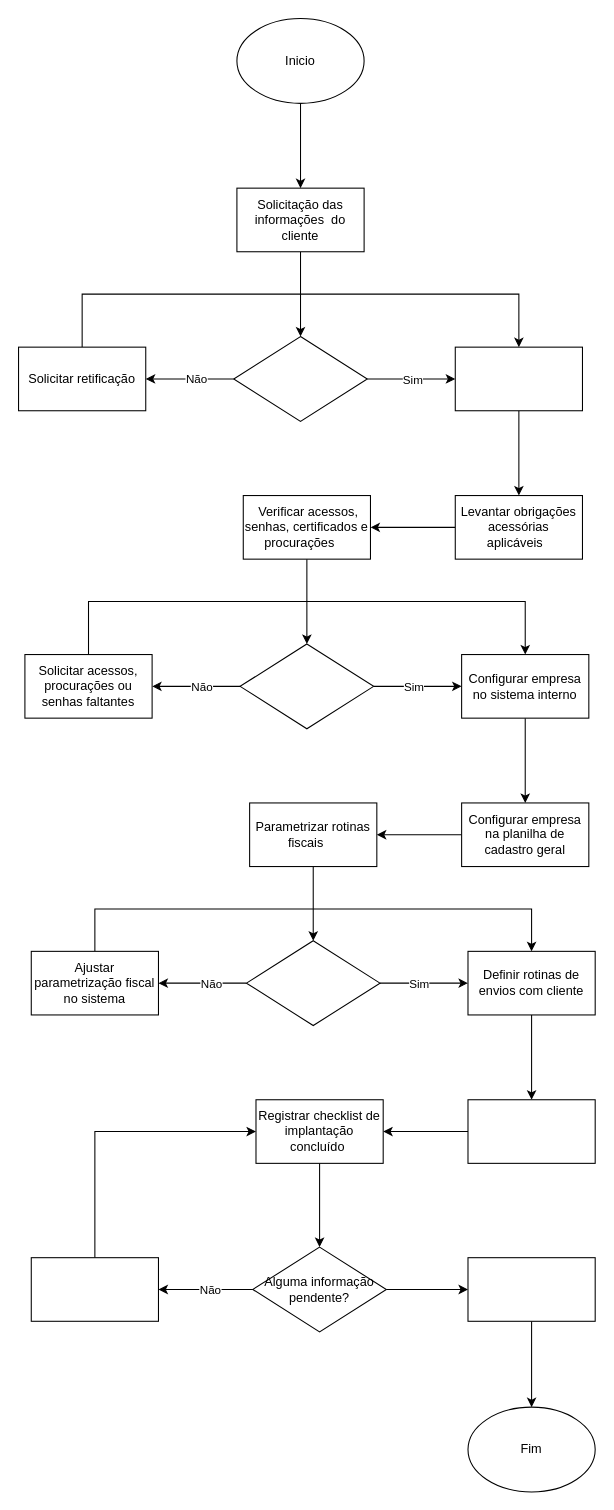
Some shapes in this 614 by 1510 pixel diagram are drawn without their labels. Here are the shapes that lost their labels. From the top down, the centre of each, then its label:
point (300, 378): Documentação recebida completa?
point (518, 378): Conferir dados cadastrais da empresa
point (306, 686): Todos os acessos foram liberados?
point (312, 983): Tributação e parâmetros conferidos?
point (531, 1131): Orientar cliente sobre prazos e responsabilidades
point (94, 1289): Verificar e regularizar
point (531, 1289): Liberar cliente para rotina fiscal mensal
